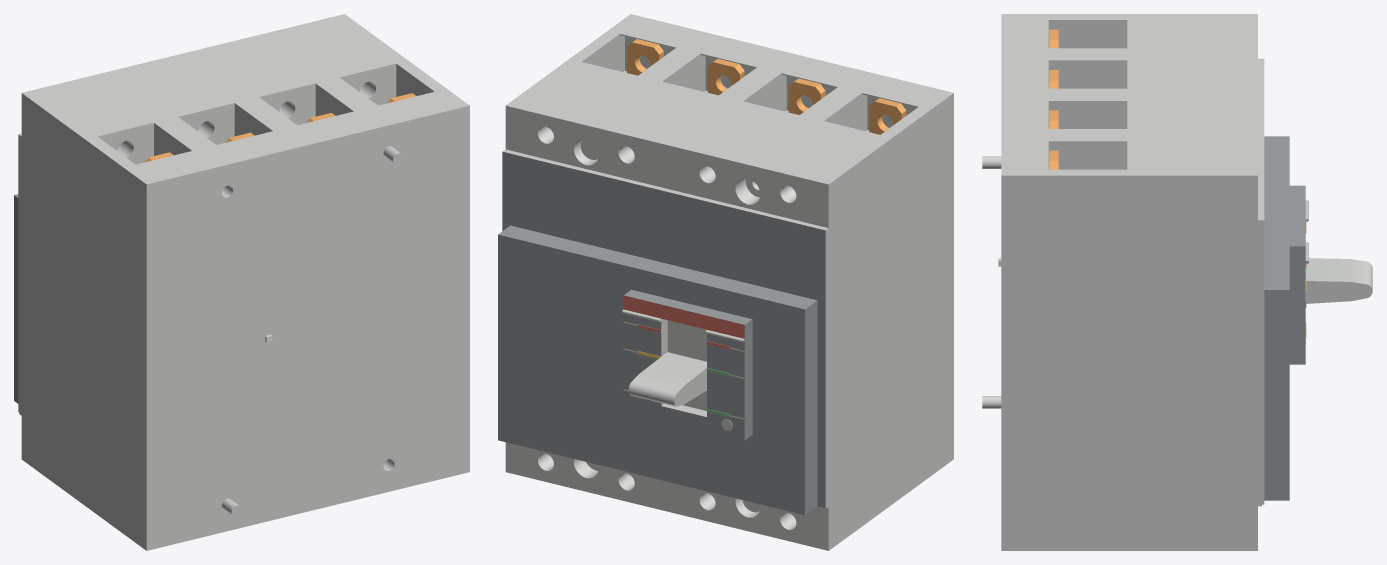
The picture shows the model from 3 angles, left to right: view 1: azimuth 30°, elevation 25°; view 2: azimuth 150°, elevation 25°; view 3: azimuth 270°, elevation 25°; orthographic projection. The views are drawn at different scales.
Visible parts, largest first — view 1: Body1; view 2: Body1; view 3: Body1.
Boxes of the visible parts, left/top/right/bottom form: Body1: left=14, top=14, right=469, bottom=550; Body1: left=498, top=14, right=953, bottom=550; Body1: left=982, top=14, right=1372, bottom=550.
Bounding box in the file's own units: 120 × 130 × 123.
